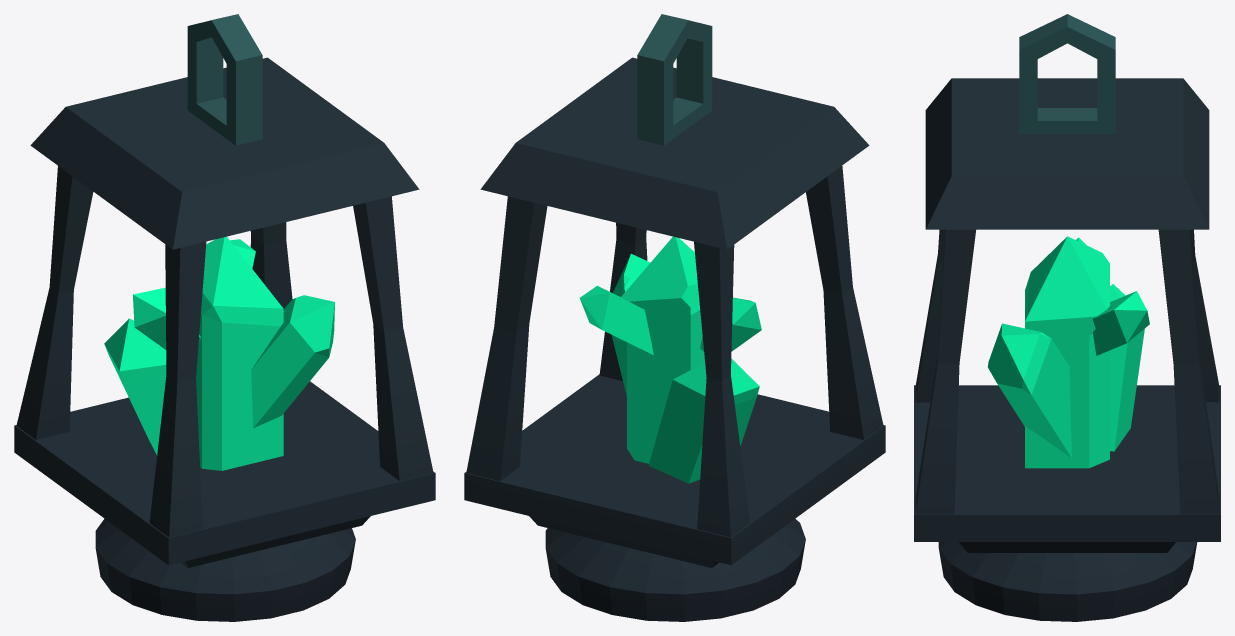
Rendered from lantern.glb.
The picture shows the model from 3 angles, left to right: view 1: azimuth 30°, elevation 25°; view 2: azimuth 150°, elevation 25°; view 3: azimuth 270°, elevation 25°; orthographic projection.
Parts seen in each view (by area): view 1: Cube.012; view 2: Cube.012; view 3: Cube.012.
Part boxes in pixels (x1,y1,x2,y2): Cube.012: (14, 14, 435, 621); Cube.012: (464, 14, 885, 621); Cube.012: (914, 14, 1220, 621).
Size of the model in its own units: 4.36 by 8.61 by 4.36.
Materials: 1 (1 with a texture image).
